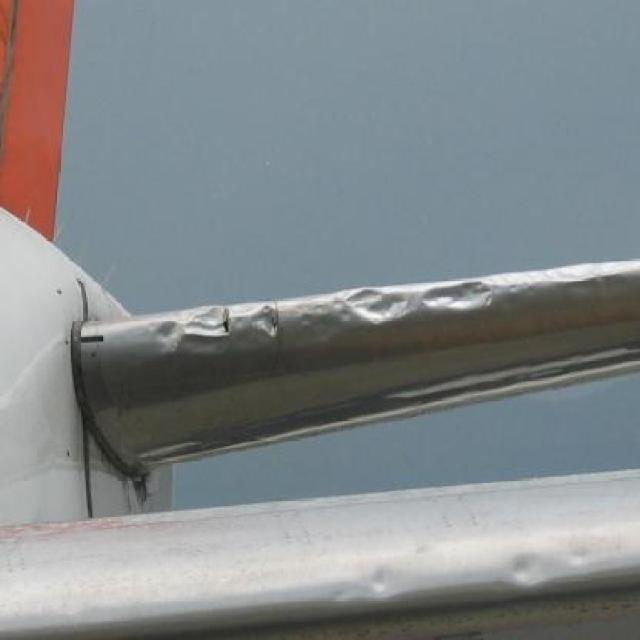dent: (352, 289, 415, 325), (422, 283, 495, 311), (506, 552, 543, 585), (193, 310, 227, 343), (152, 320, 188, 351), (255, 307, 280, 335), (372, 567, 391, 593), (571, 550, 594, 564), (298, 304, 312, 326), (337, 298, 351, 318), (318, 306, 327, 317)
